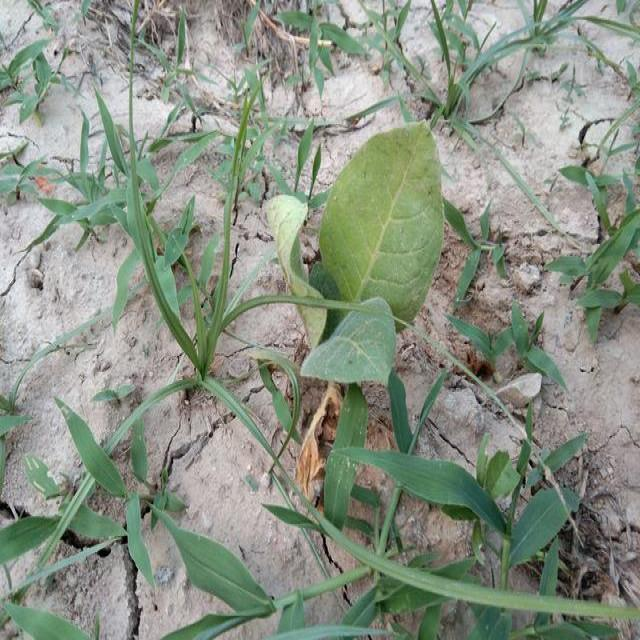crop: (277, 116, 444, 377)
